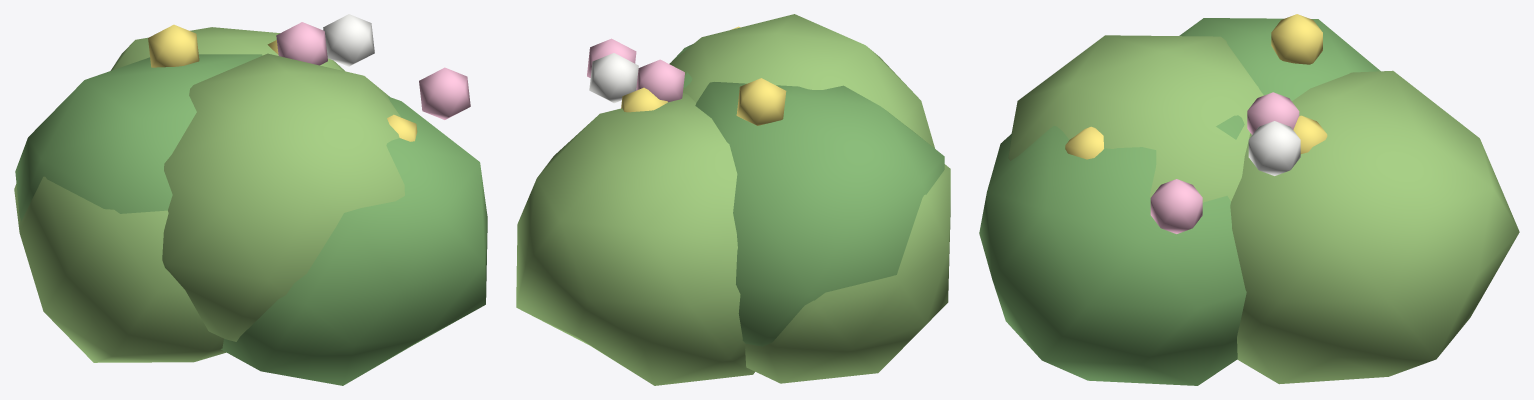
File: bush.fbx
3 renders of one model, left to right at view 1: azimuth 30°, elevation 25°; view 2: azimuth 150°, elevation 25°; view 3: azimuth 270°, elevation 25°, orthographic. The views are drawn at different scales.
Parts seen in each view (by area): view 1: Visual; view 2: Visual; view 3: Visual.
Part boxes in pixels (left/top/right/bottom): Visual: left=14, top=14, right=487, bottom=385; Visual: left=516, top=14, right=950, bottom=385; Visual: left=979, top=14, right=1519, bottom=385.
Bounding box in the file's own units: 184 × 141 × 212.
